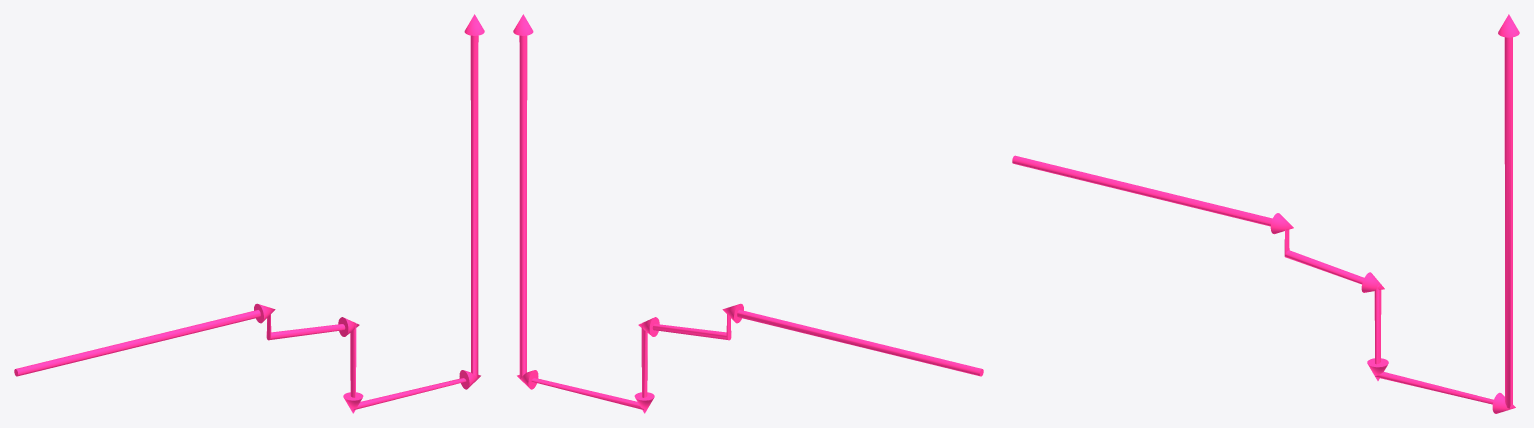
The model's file is cooling_tower_gearbox_flow.glb.
The picture shows the model from 3 angles, left to right: view 1: azimuth 30°, elevation 25°; view 2: azimuth 150°, elevation 25°; view 3: azimuth 330°, elevation 25°; orthographic projection. The views are drawn at different scales.
Parts seen in each view (by area): view 1: power; view 2: power; view 3: power.
Boxes of the visible parts, bbox=[...] form: power: bbox=[14, 14, 484, 413]; power: bbox=[513, 14, 983, 413]; power: bbox=[1012, 14, 1519, 413].
Bounding box in the file's own units: 1.39 × 1.06 × 0.052.
